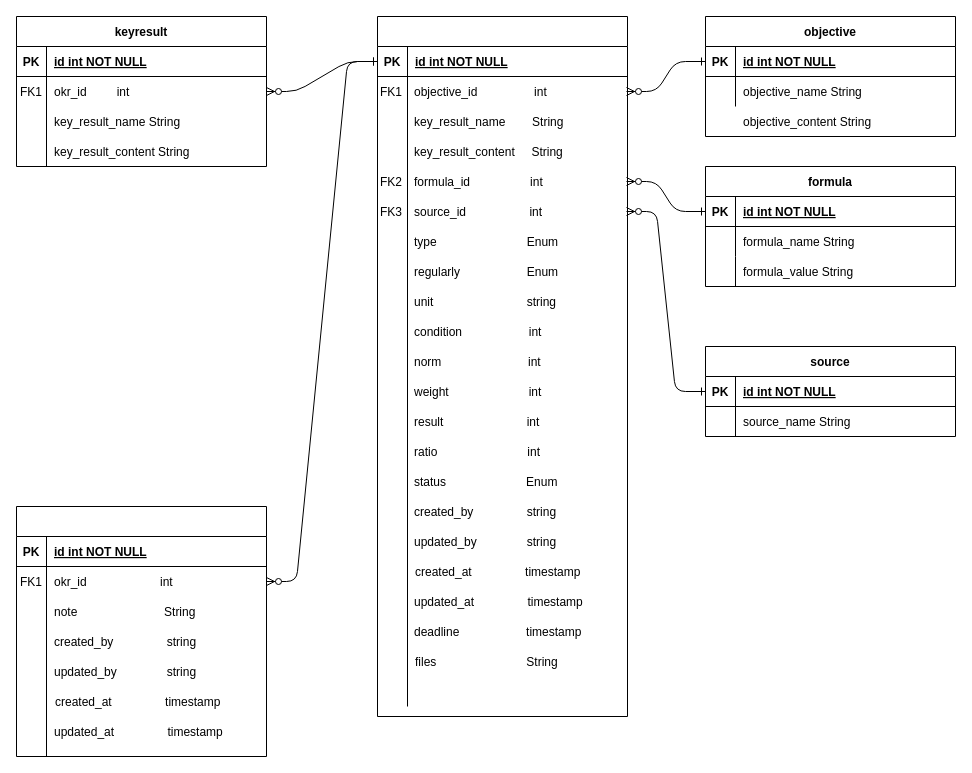
The diagram is 972 pixels wide and 773 high, and some of its shapes have lost their labels. Here are the shapes that lost their labels. From the top down, the box of each, then its label:
(376, 16, 628, 716): OKRs
(16, 506, 266, 756): logs
